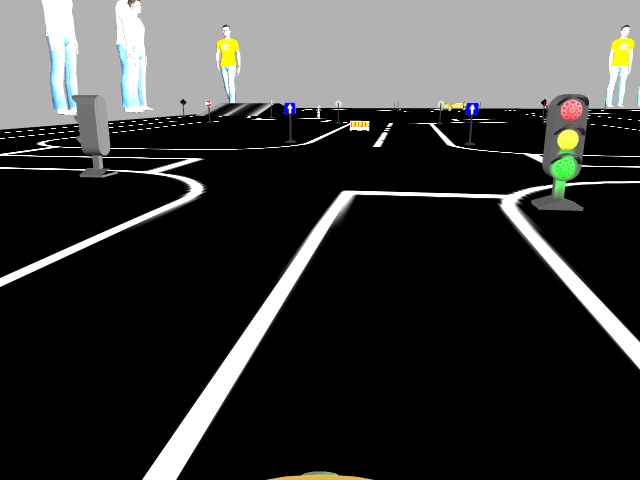ClosedRoadStand: (349, 121, 368, 130)
OneWay: (466, 102, 478, 115), (284, 102, 294, 113)
TrafficLight: (544, 94, 588, 182)
